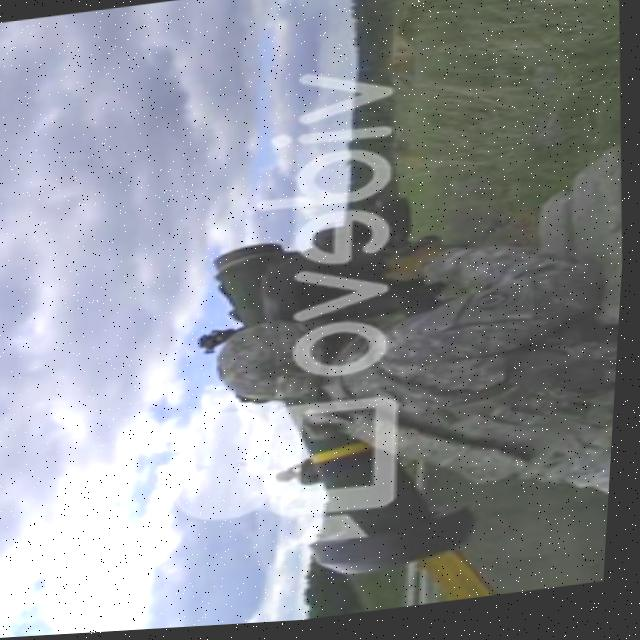rocket: (278, 377, 492, 591)
